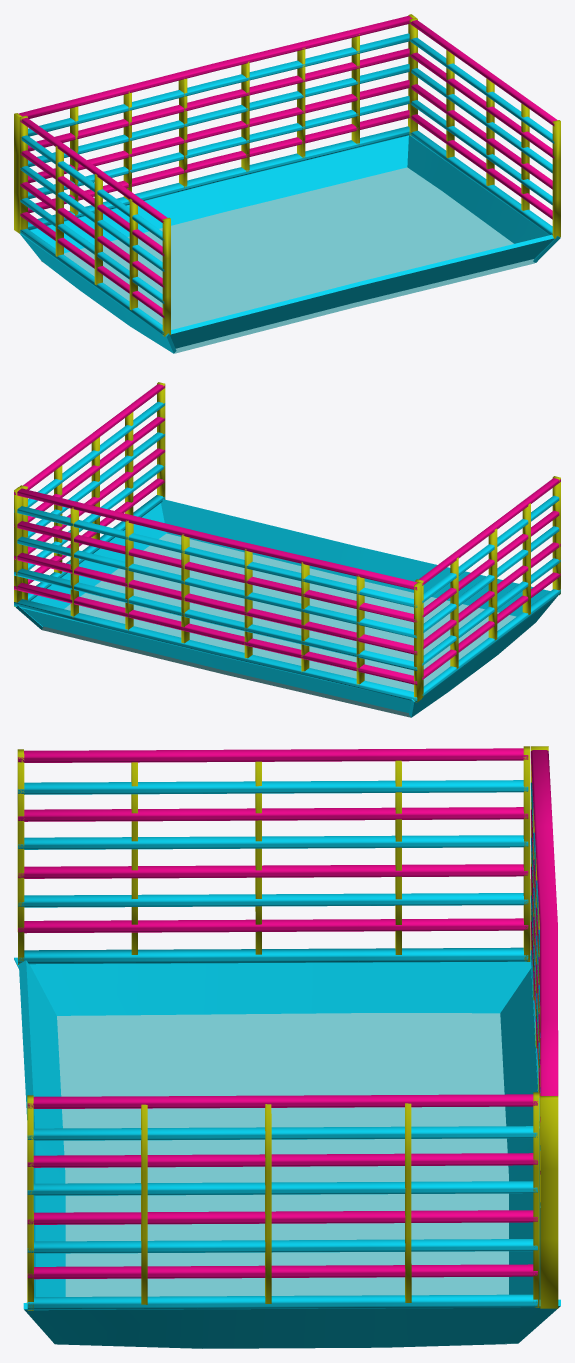
File: CAGE.FBX
3 views of the same model, one above another, from view 1: azimuth 30°, elevation 25°; view 2: azimuth 150°, elevation 25°; view 3: azimuth 270°, elevation 25° (orthographic). The views are drawn at different scales.
Visible parts, largest first — view 1: Box002; view 2: Box002; view 3: Box002.
Boxes of the visible parts, x1,y1,x2,y2 form: Box002: (14,14,560,353); Box002: (14,382,560,717); Box002: (14,746,560,1348).
Size of the model in its own units: 2715 by 936 by 1767.
